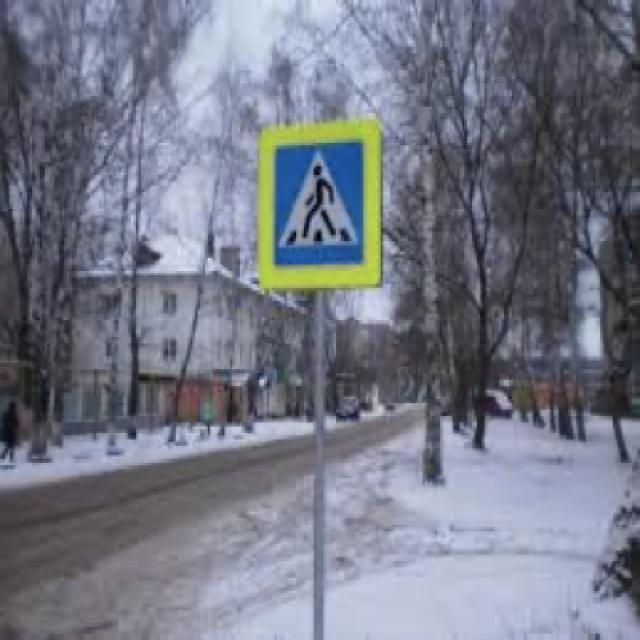crosswalk_sign: (271, 136, 366, 271)
